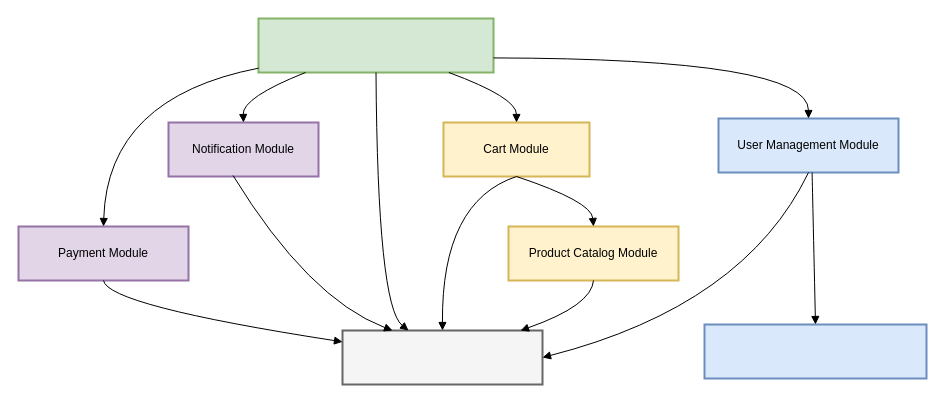
The diagram is 944 pixels wide and 402 high, and some of its shapes have lost their labels. The box of each missing label's shape, as (x1, y1, x2, y2) in pixels:
Authentication Module: (703, 323, 927, 379)
Data Access Module: (341, 329, 543, 385)
Order Processing Module: (257, 17, 494, 73)
